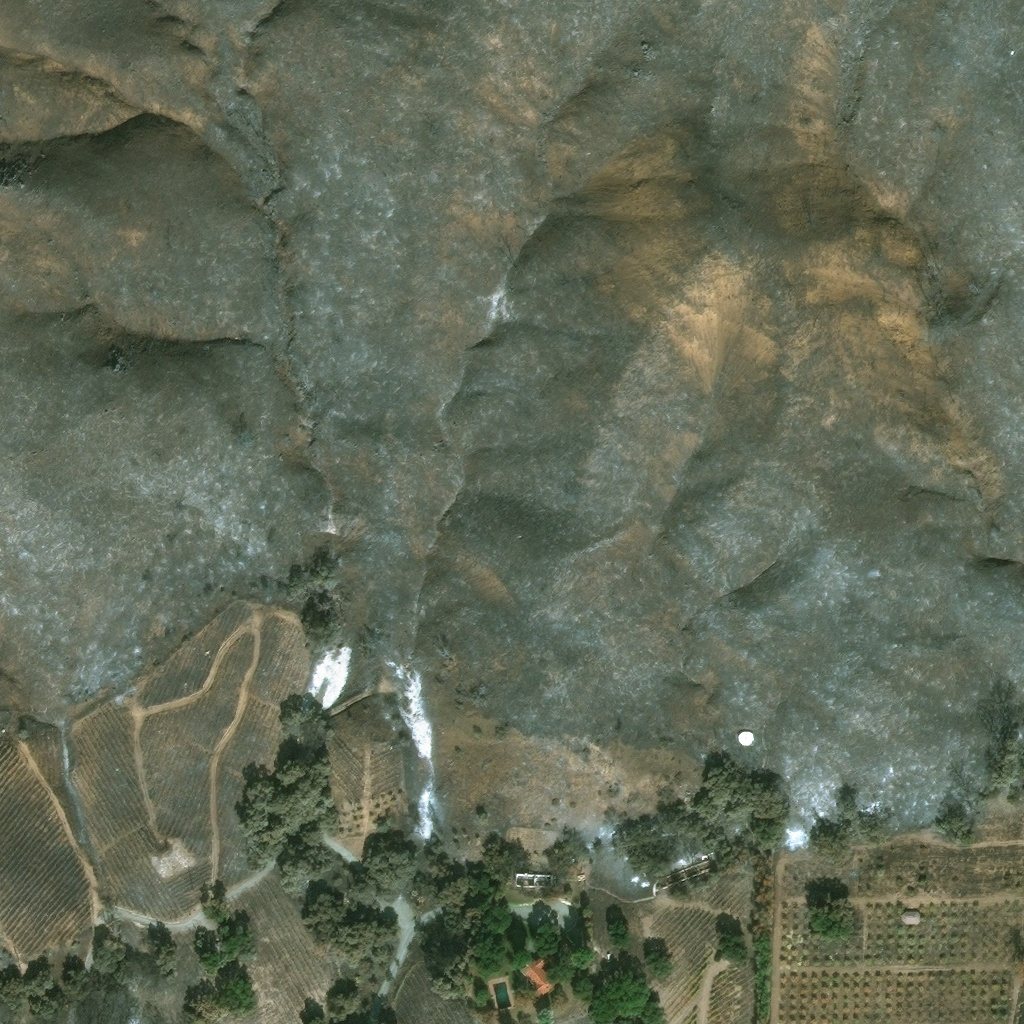0 no-damage: (517, 945, 558, 1000), (736, 730, 753, 746), (902, 910, 920, 922)
3 destroyed: (656, 856, 715, 891), (511, 870, 549, 889)
